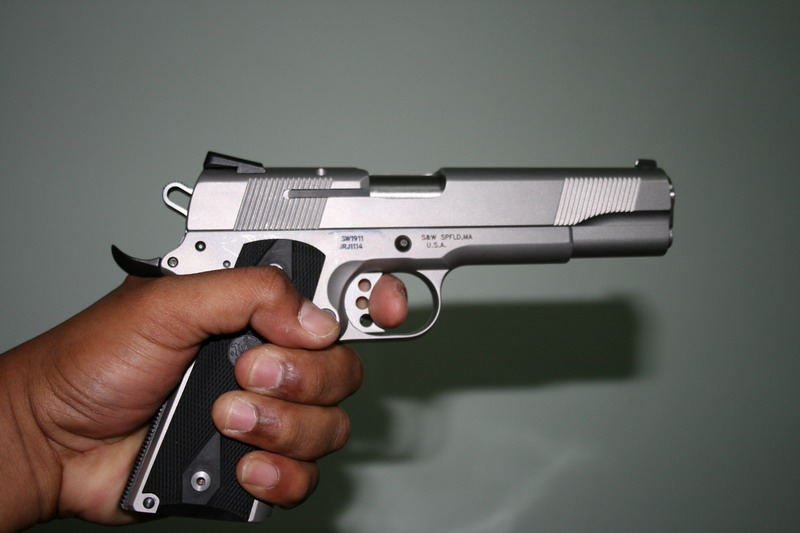gun: (105, 145, 676, 523)
